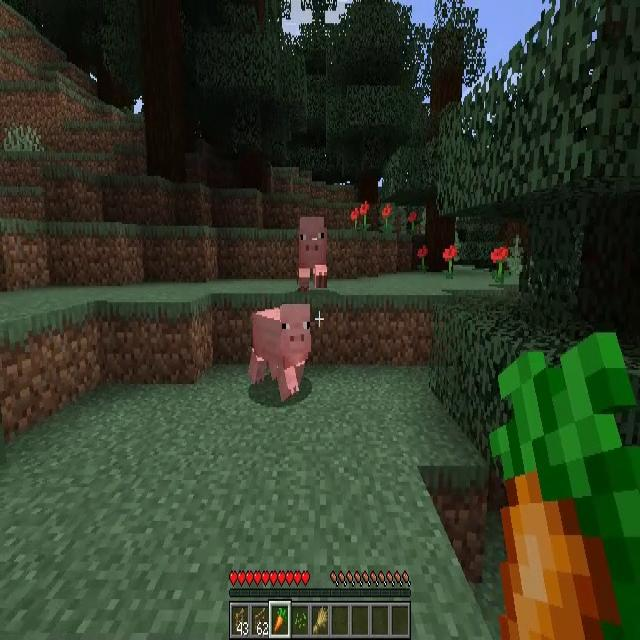pig: (250, 305, 312, 401), (298, 215, 327, 288)
